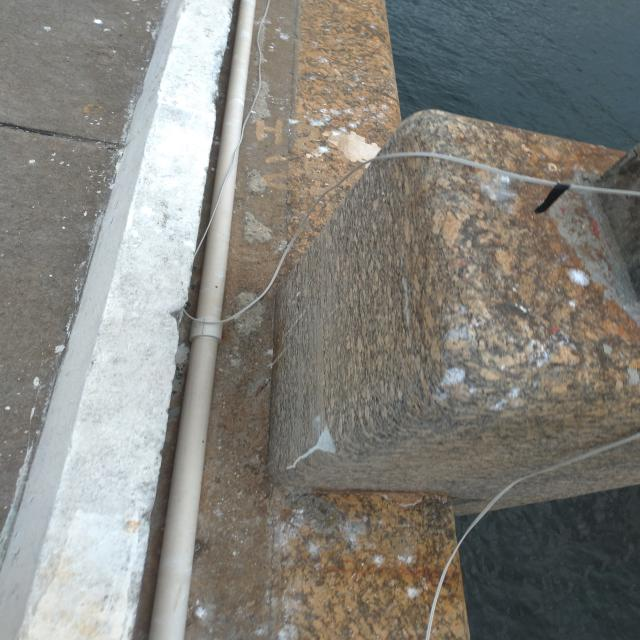gas: (149, 0, 253, 637)
